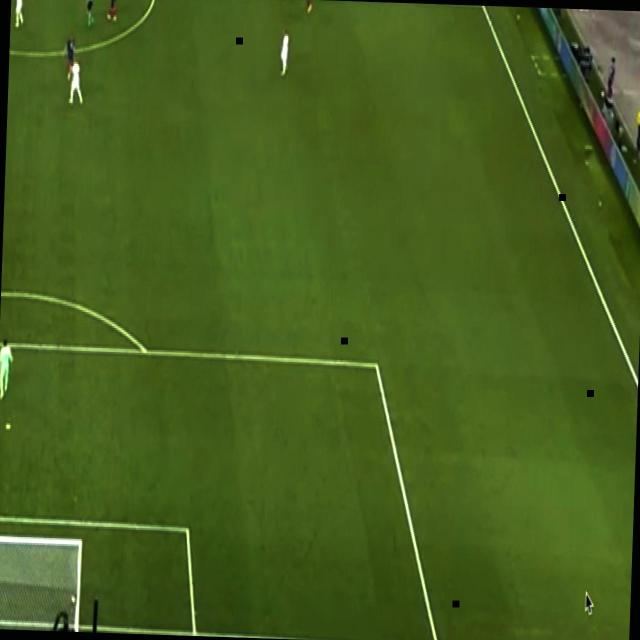ball: (600, 90, 605, 98)
player-white: (0, 334, 15, 400), (67, 58, 85, 107), (61, 30, 77, 82), (278, 26, 290, 78), (11, 0, 25, 28), (82, 0, 95, 29), (104, 0, 117, 22), (303, 0, 314, 12)
